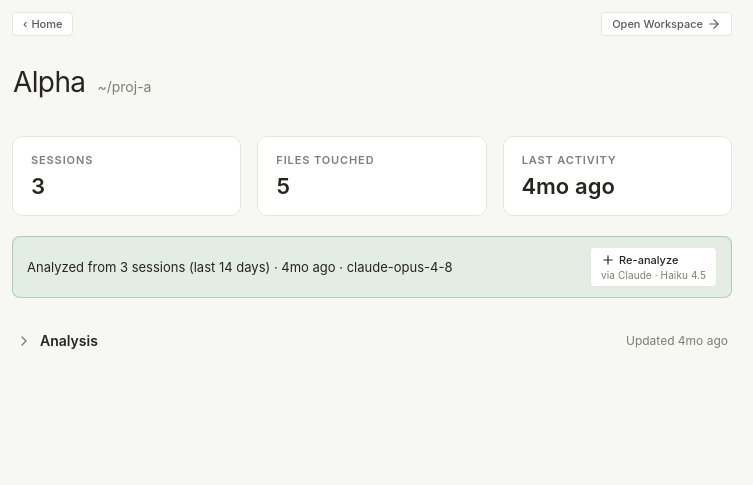
Test: ProjectScreen › keeps the Analysis accordion collapsed by default, expanding on click
This screenshot has width=753, height=485.
Expected: the text "My recent summary" is not shown
Click the button "Analysis Updated 4mo ago" at (69, 340), box top-left (12, 322), bottom-right (732, 359)
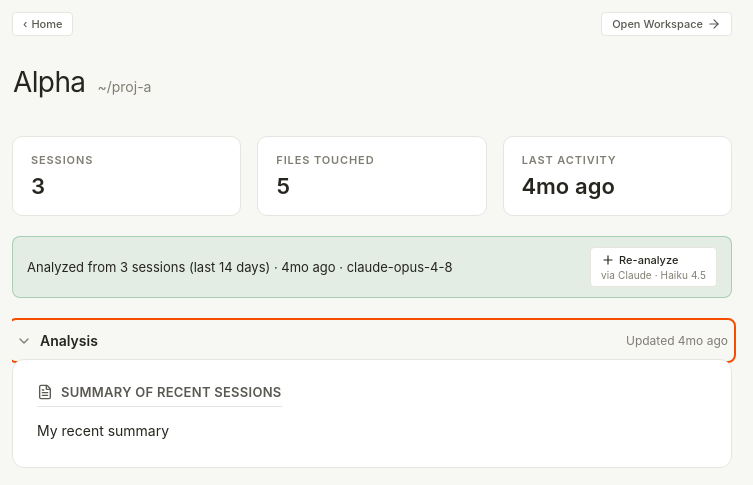
Now the text "My recent summary" is shown, box top-left (37, 422), bottom-right (169, 439)
